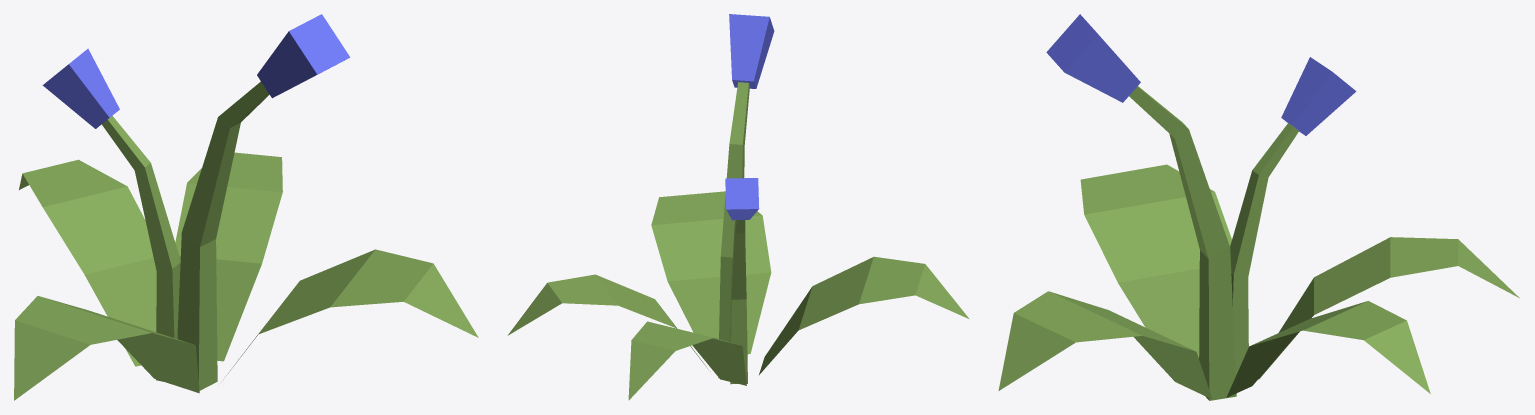
File: Flower_Blue_2.fbx
3 renders of one model, left to right at view 1: azimuth 30°, elevation 25°; view 2: azimuth 150°, elevation 25°; view 3: azimuth 270°, elevation 25°, orthographic. The views are drawn at different scales.
Parts seen in each view (by area): view 1: Flower_Blue_2; view 2: Flower_Blue_2; view 3: Flower_Blue_2.
Part boxes in pixels (bbox=[...]): Flower_Blue_2: bbox=[14, 14, 478, 400]; Flower_Blue_2: bbox=[507, 14, 968, 400]; Flower_Blue_2: bbox=[998, 14, 1519, 400].
Size of the model in its own units: 41.31 by 37.4 by 45.44.
